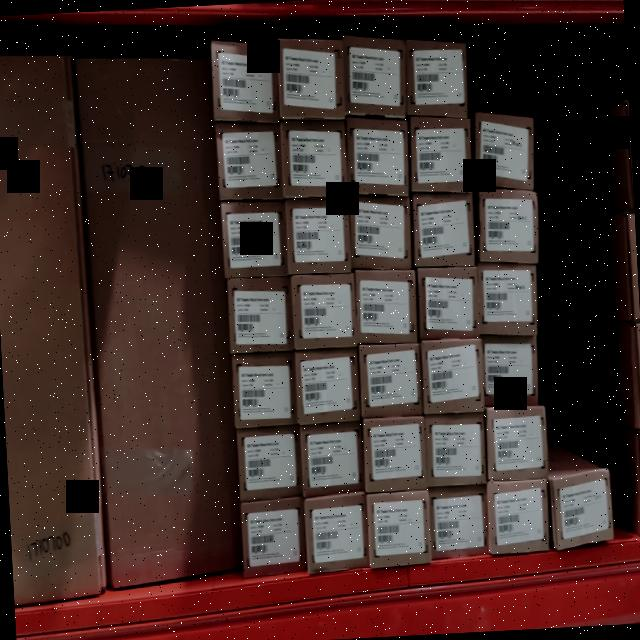box: (79, 52, 242, 586), (0, 51, 106, 599), (280, 31, 348, 120), (212, 39, 279, 125), (283, 116, 349, 202), (222, 198, 292, 278), (228, 274, 296, 354), (408, 38, 470, 124), (475, 109, 537, 194), (346, 35, 408, 119), (360, 412, 424, 492), (236, 427, 304, 502), (358, 342, 425, 418), (365, 489, 432, 565), (348, 116, 410, 198), (292, 271, 355, 351), (301, 418, 364, 498), (232, 352, 300, 426), (478, 187, 542, 264), (218, 125, 282, 201), (419, 266, 483, 342), (351, 194, 410, 276), (426, 410, 486, 490), (487, 403, 550, 479), (242, 502, 308, 574), (289, 198, 349, 276), (306, 496, 366, 573), (552, 470, 614, 542), (478, 262, 538, 336), (354, 274, 416, 344), (421, 338, 482, 409), (298, 351, 358, 423), (486, 485, 548, 554), (482, 332, 540, 404), (431, 486, 486, 558)
